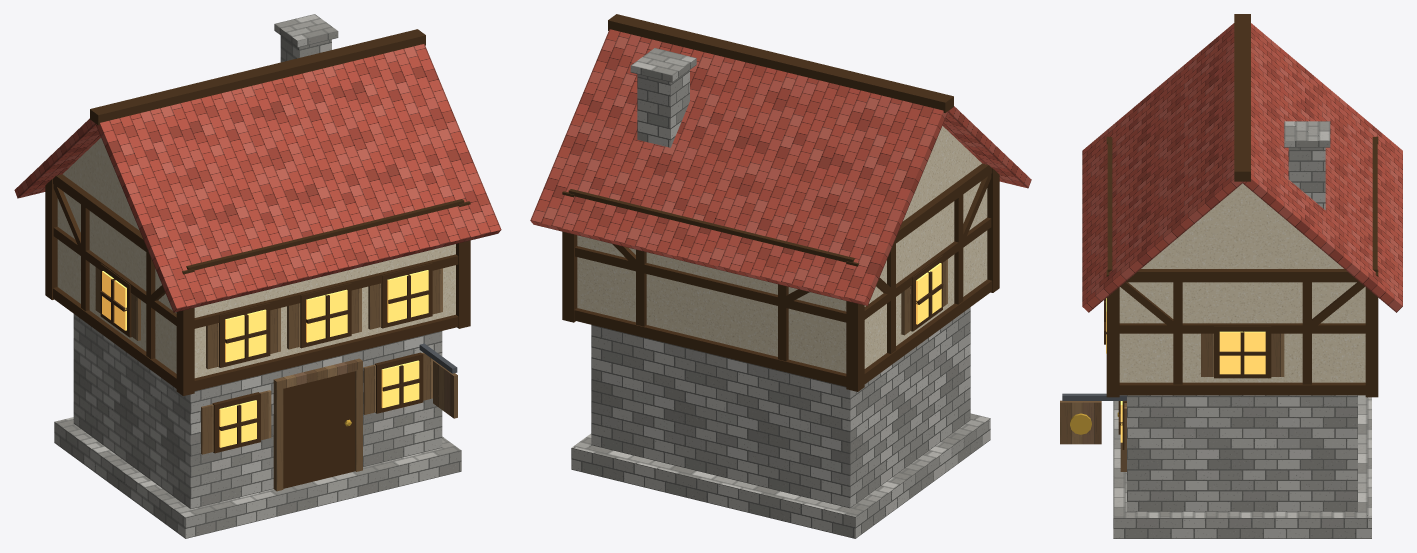
The model's file is tavern.glb.
The picture shows the model from 3 angles, left to right: view 1: azimuth 30°, elevation 25°; view 2: azimuth 150°, elevation 25°; view 3: azimuth 270°, elevation 25°; orthographic projection. The views are drawn at different scales.
Parts seen in each view (by area): view 1: tavern; view 2: tavern; view 3: tavern.
Part boxes in pixels (<box>): tavern: <box>14,14,501,538</box>; tavern: <box>530,14,1031,538</box>; tavern: <box>1060,14,1402,538</box>.
Bounding box in the file's own units: 4.04 × 4.54 × 3.71.
8 materials, 4 textured.
